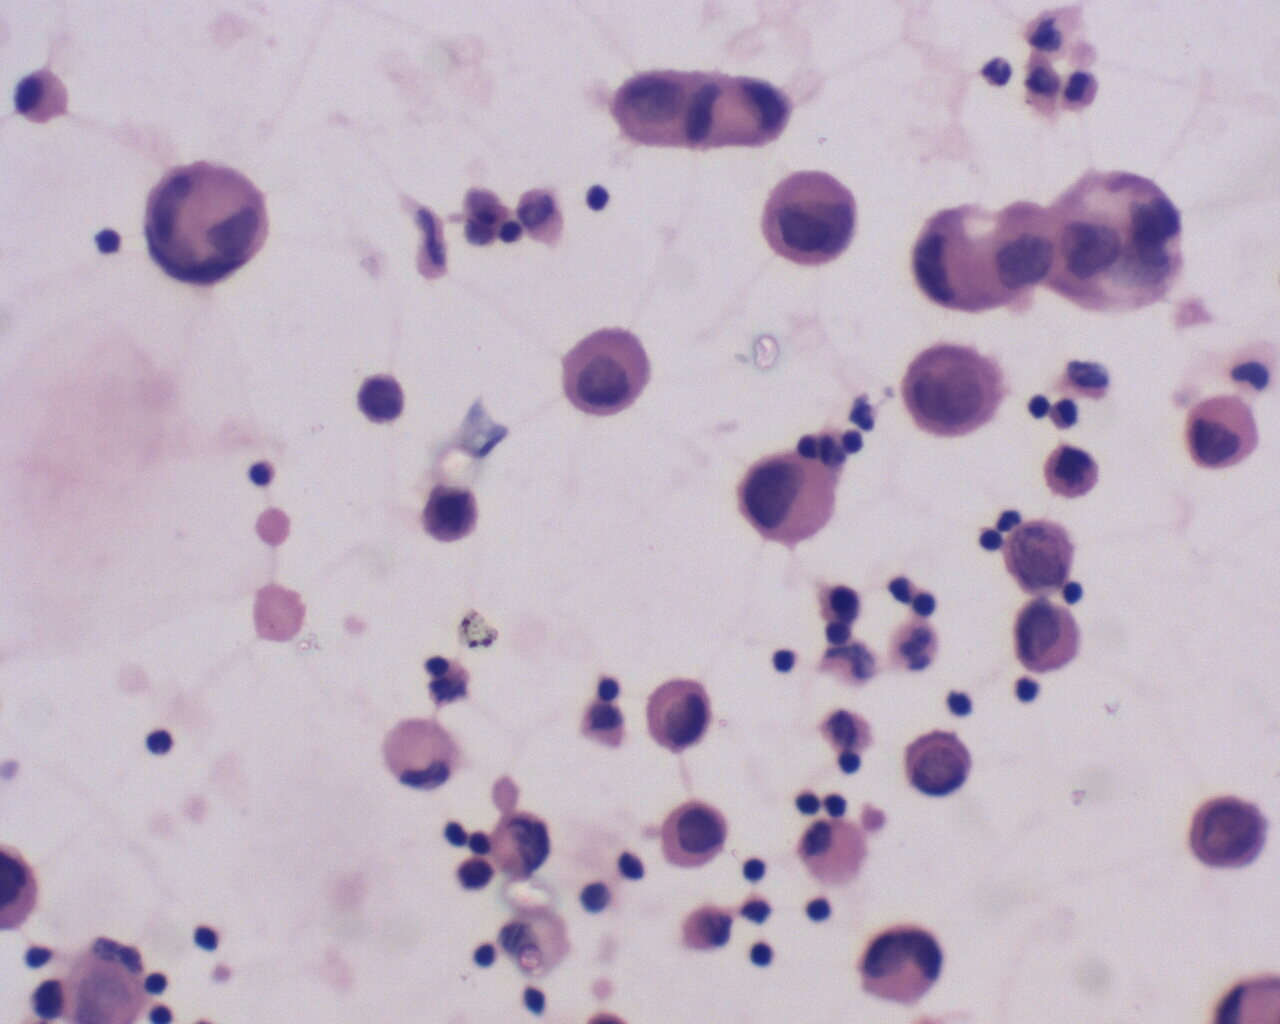ab: (901, 338, 1003, 446), (554, 325, 655, 422), (762, 164, 858, 264), (1181, 393, 1272, 483), (1189, 787, 1270, 872), (638, 675, 717, 760), (901, 721, 975, 800), (1014, 599, 1083, 680), (657, 798, 734, 869), (1038, 445, 1102, 505)
histo: (738, 452, 837, 546), (379, 713, 460, 796)
lymph: (351, 367, 410, 429), (139, 723, 178, 768), (735, 848, 777, 887), (467, 932, 504, 969), (770, 644, 806, 678), (746, 938, 778, 970), (245, 460, 278, 490), (1015, 674, 1043, 706), (584, 181, 610, 213)
meso: (796, 820, 872, 888), (9, 64, 73, 135)
neutro: (976, 46, 1021, 92)
